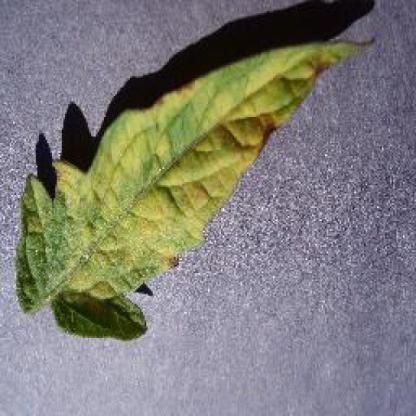Tomato_Leaf_Mold: (17, 38, 376, 338)
